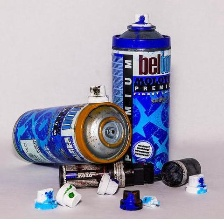aerosol_cans: (106, 10, 175, 185), (9, 99, 135, 168)
bottle: (55, 158, 159, 193)
